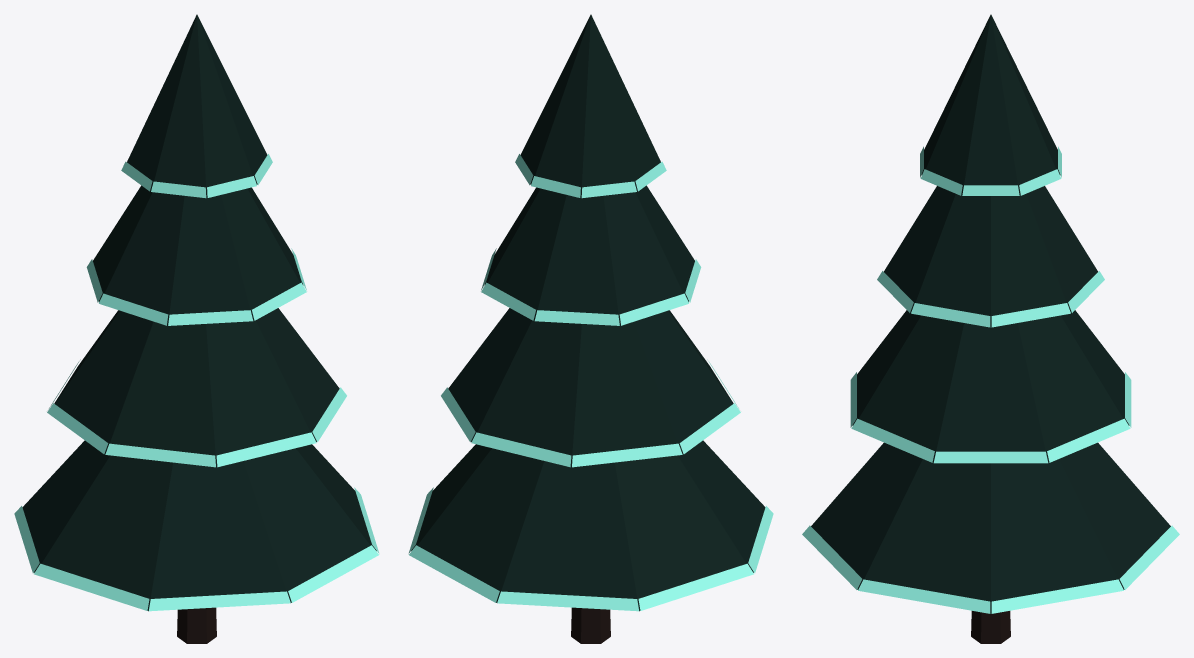
The model's file is pine.glb.
3 renders of one model, left to right at view 1: azimuth 30°, elevation 25°; view 2: azimuth 150°, elevation 25°; view 3: azimuth 270°, elevation 25°, orthographic.
Visible parts, largest first — view 1: root; view 2: root; view 3: root.
Boxes of the visible parts, box(x1,y1,x2,y2) form: root: box(14, 14, 379, 643); root: box(408, 14, 773, 643); root: box(802, 14, 1179, 643).
Size of the model in its own units: 6.05 by 11 by 6.05.
